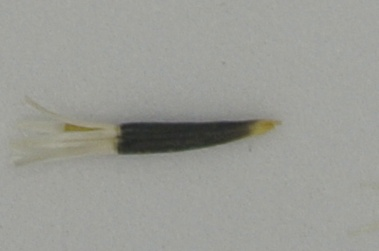เมล็ดดีติดกัน: (11, 94, 285, 168)
